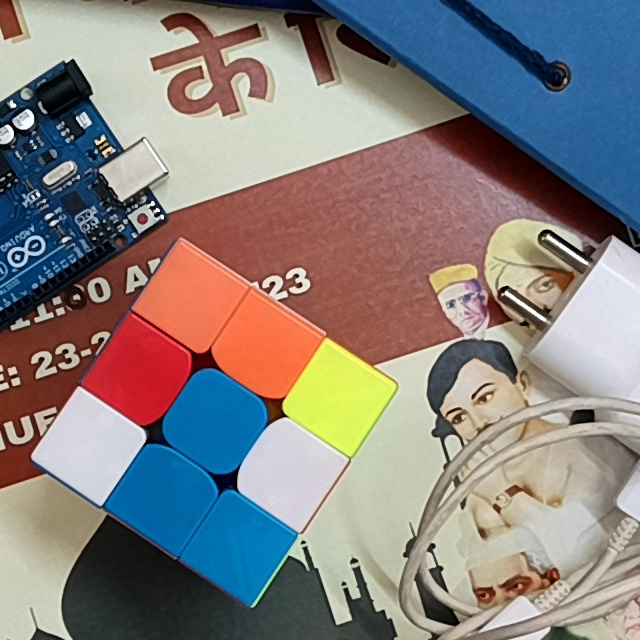tile: (235, 314, 296, 377), (212, 516, 272, 578), (159, 269, 220, 329), (185, 392, 245, 453), (257, 442, 319, 501), (115, 340, 171, 401), (61, 415, 118, 474), (312, 368, 368, 428), (138, 468, 195, 523)
